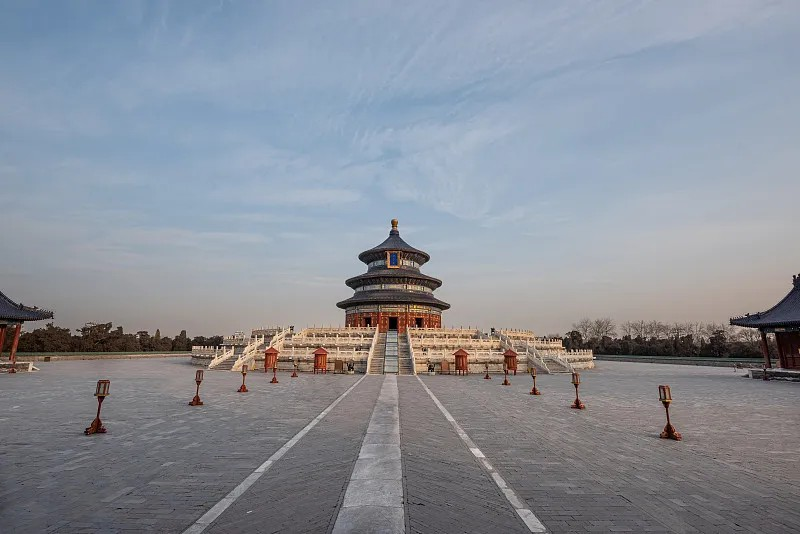Heaven: (334, 220, 452, 331)
